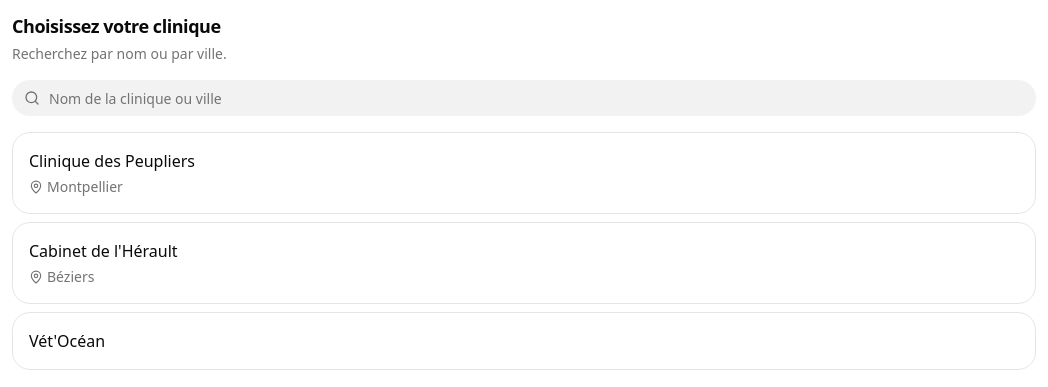
Test: StepClinic — recherche › filtre par nom
In the search field named "Rechercher une clinique": (524, 98) [12,80,1036,116], type "peupliers"
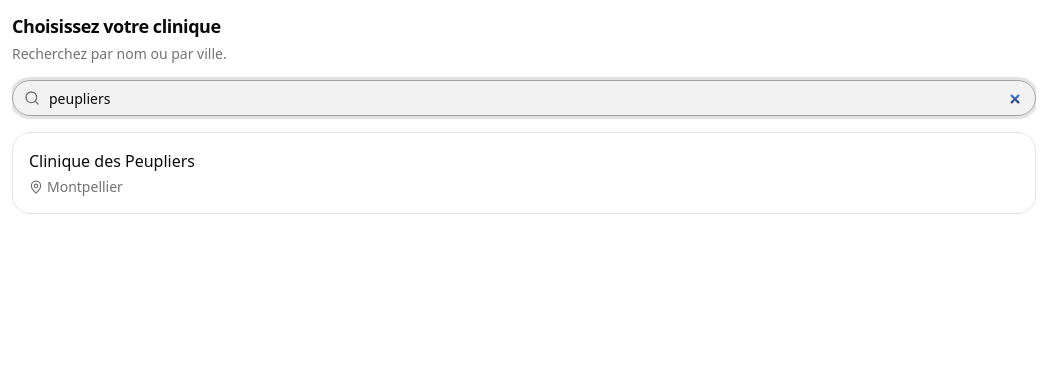
Expected: the text "Clinique des Peupliers" is shown, [29,149,195,173]
Now the button "Cabinet de l'Hérault" is gone
